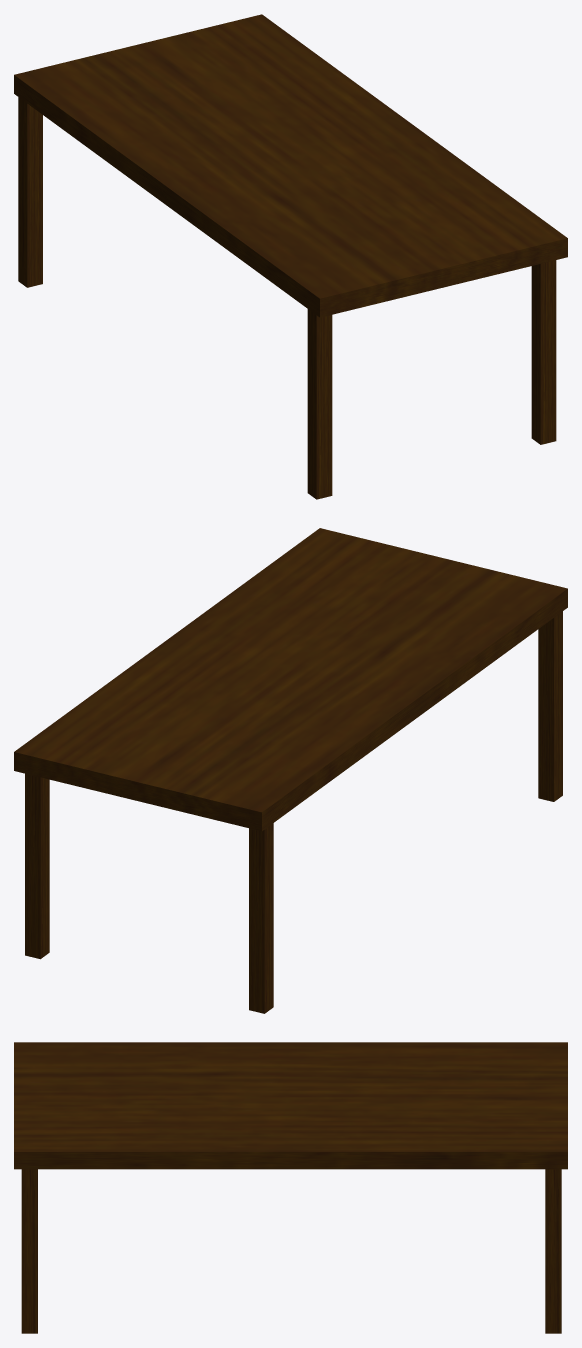
File: tablelibrary.fbx
3 views of the same model, one above another, from view 1: azimuth 30°, elevation 25°; view 2: azimuth 150°, elevation 25°; view 3: azimuth 270°, elevation 25° (orthographic). The views are drawn at different scales.
Visible parts, largest first — view 1: librarytable, leg, leg1, leg3; view 2: librarytable, leg3, leg2, leg; view 3: librarytable, leg1, leg2.
Part boxes in pixels (<box>): librarytable: <box>14,14,567,317</box>; leg: <box>307,309,332,499</box>; leg1: <box>531,260,556,444</box>; leg3: <box>18,97,42,287</box>; librarytable: <box>14,528,567,831</box>; leg3: <box>249,823,273,1013</box>; leg2: <box>25,773,49,959</box>; leg: <box>538,611,562,801</box>; librarytable: <box>14,1042,567,1169</box>; leg1: <box>21,1169,37,1333</box>; leg2: <box>545,1169,561,1333</box>.
Bounding box in the file's own units: 7.57 × 5.95 × 16.17.
